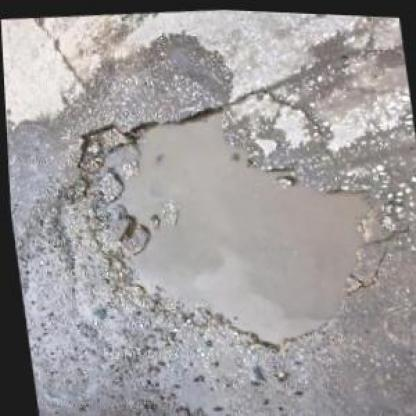pothole: (62, 83, 394, 369)
